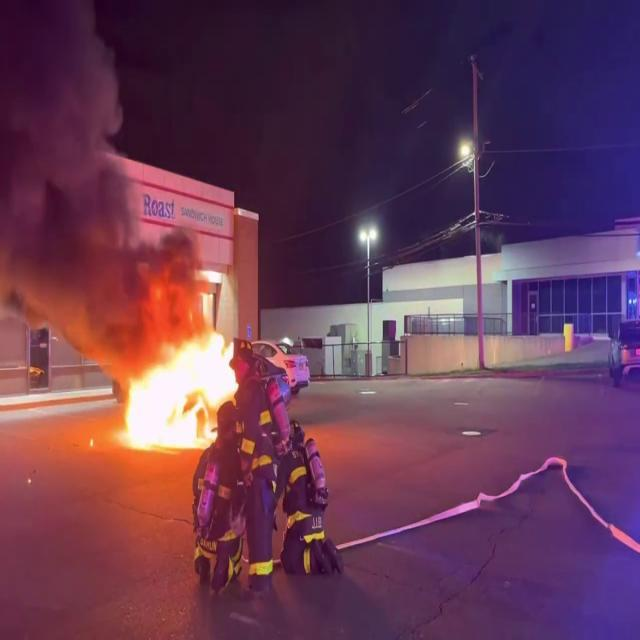Fire: (113, 294, 244, 452)
Smoke: (0, 0, 148, 338)
